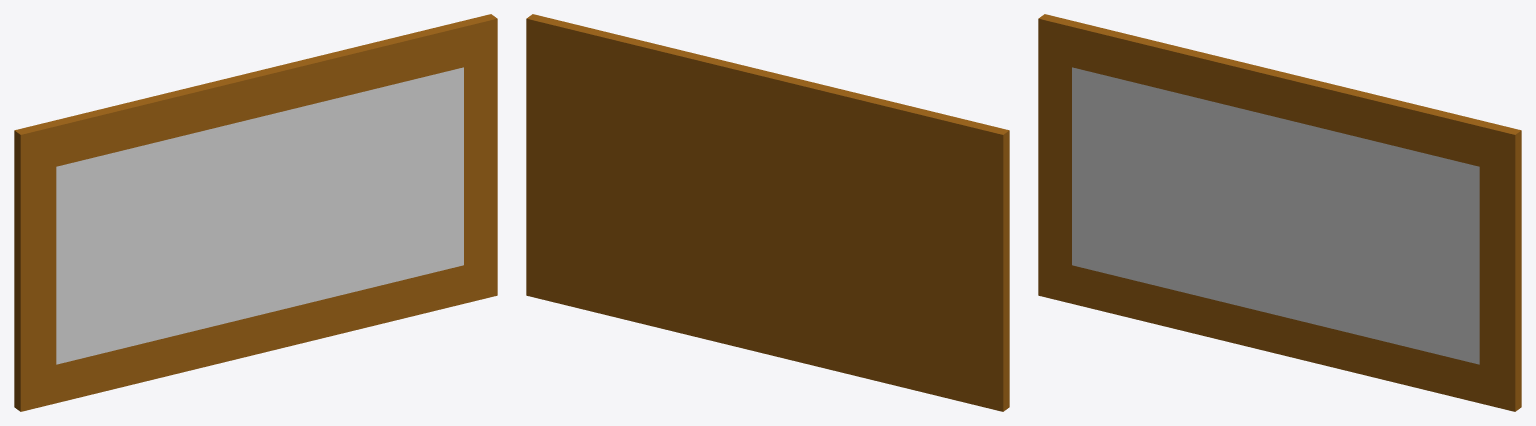
The model's file is painting.fbx.
3 views of the same model, side by side, from view 1: azimuth 30°, elevation 25°; view 2: azimuth 150°, elevation 25°; view 3: azimuth 330°, elevation 25° (orthographic).
Visible parts, largest first — view 1: Plane, Cube; view 2: Cube; view 3: Plane, Cube.
Part boxes in pixels (x1,y1,x2,y2): Plane: [56, 67, 463, 364]; Cube: [14, 14, 497, 411]; Cube: [526, 14, 1009, 411]; Plane: [1072, 67, 1479, 364]; Cube: [1038, 14, 1521, 411].
Size of the model in its own units: 253 by 140 by 6.73.
